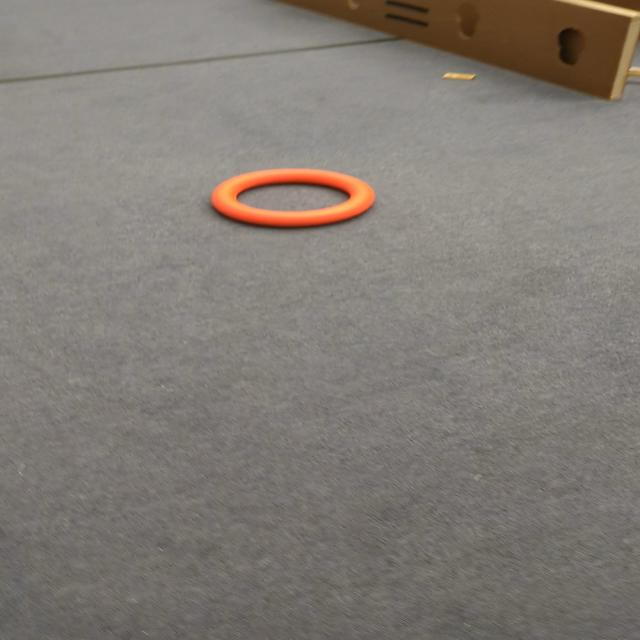note: (208, 166, 375, 230)
